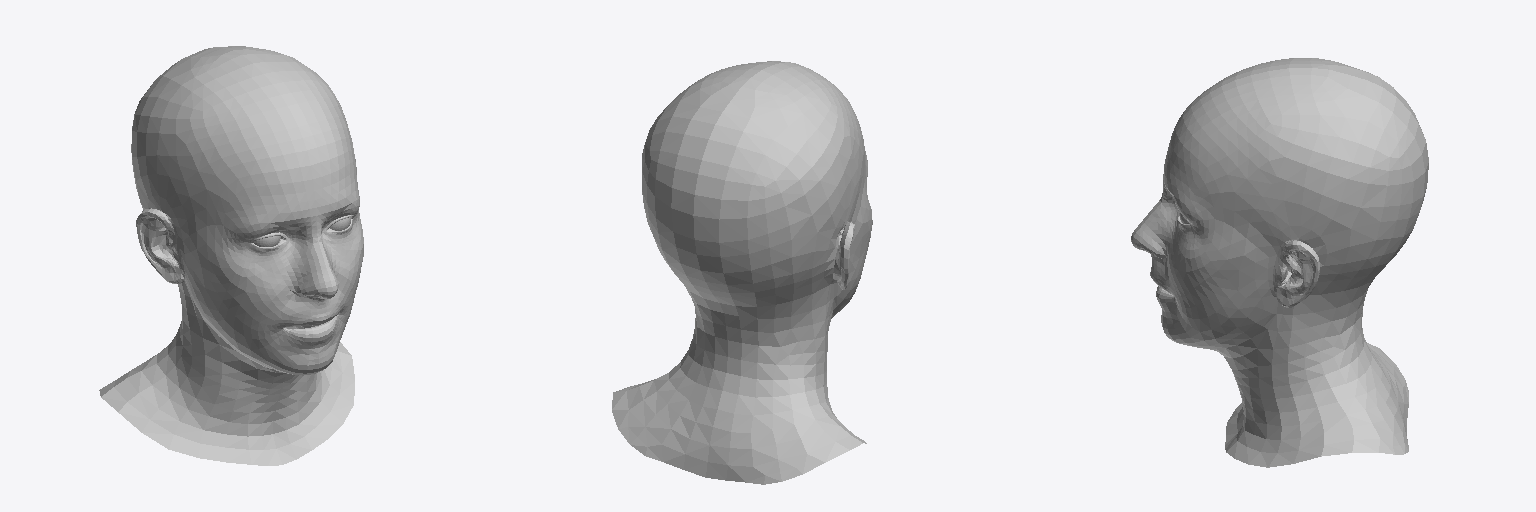
File: 00012_w_HIFI3D_UV_simply_handle_eyeballs.obj
3 views of the same model, side by side, from view 1: azimuth 30°, elevation 25°; view 2: azimuth 150°, elevation 25°; view 3: azimuth 270°, elevation 25° (orthographic).
Bounding box in the file's own units: 0.2044 × 0.311 × 0.2224.